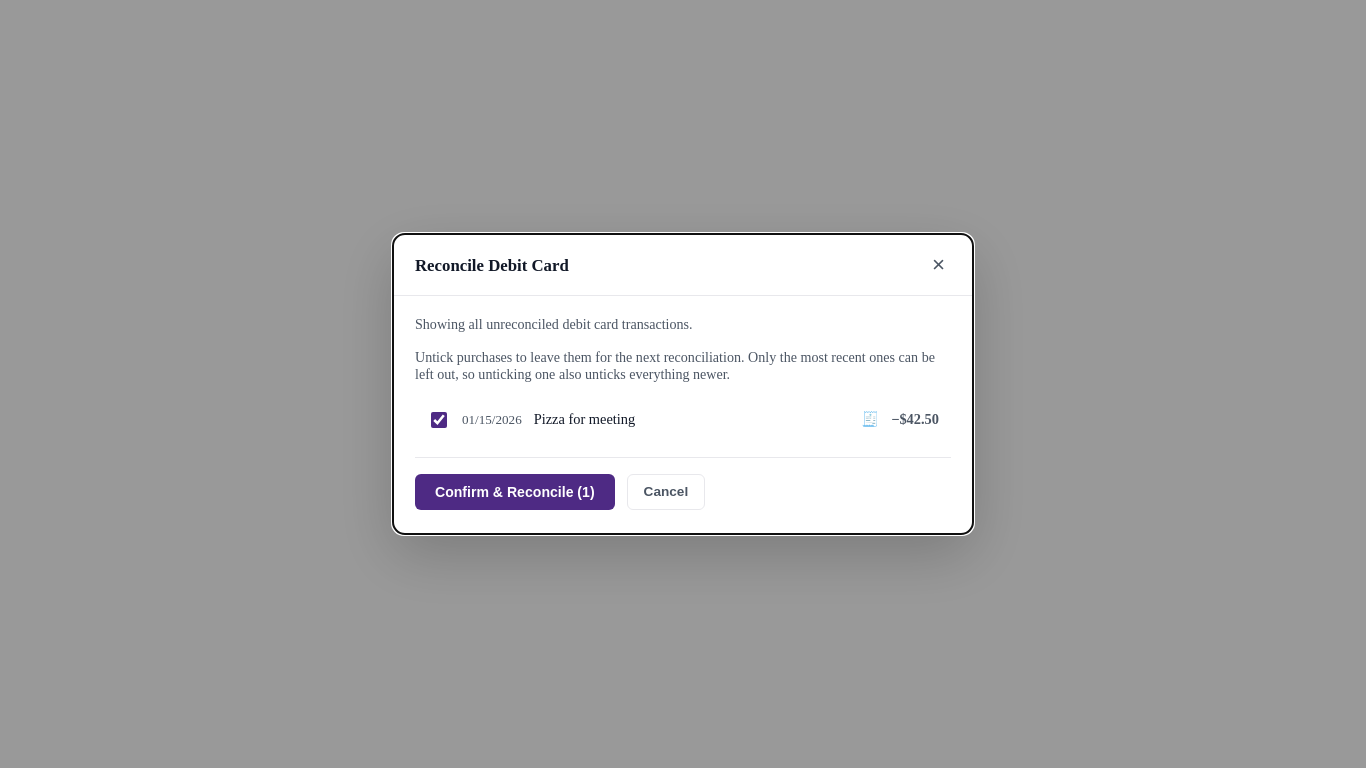
Test: ReconciliationModal › a successful ZIP download clears a previous download error
The width and height of the screenshot is (1366, 768).
Click the button "Confirm & Reconcile (1)": [515, 492] box 415,474 -> 615,510
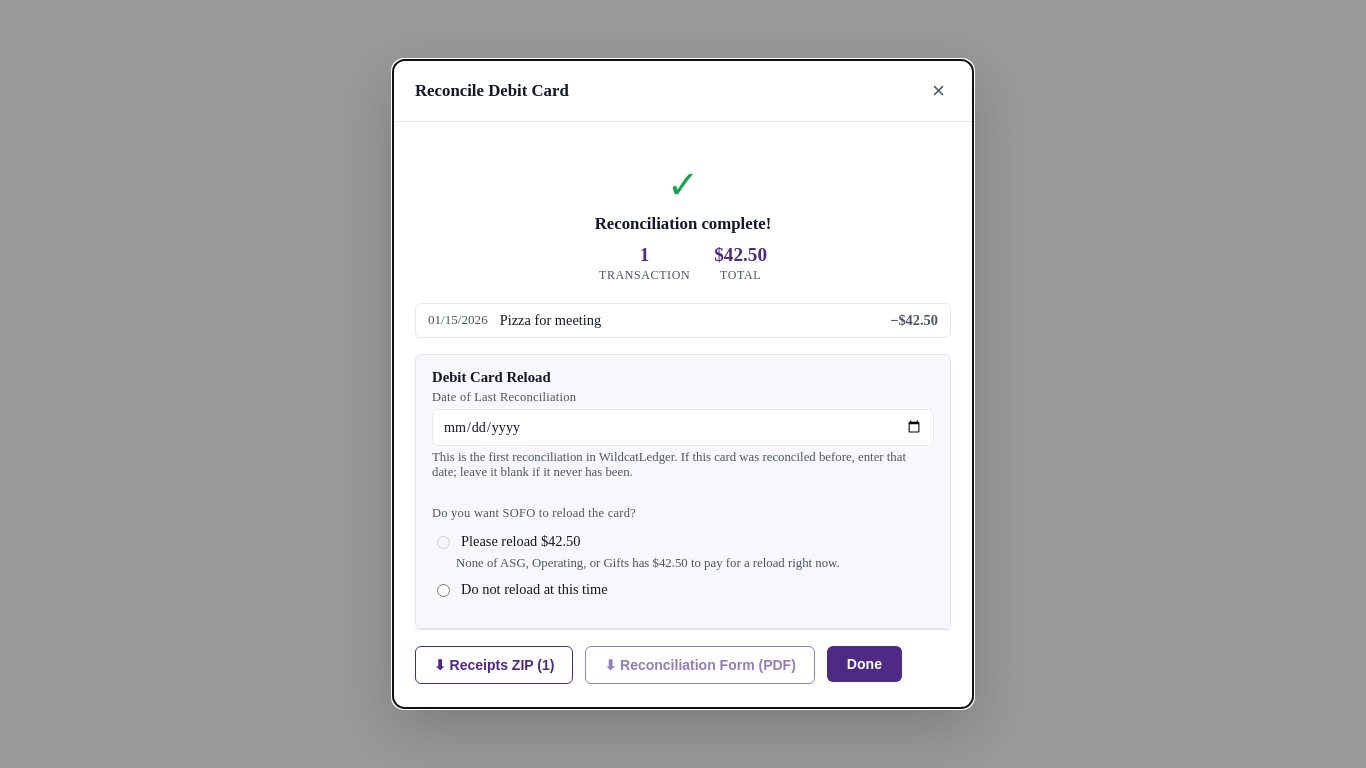
Click the button "⬇ Receipts ZIP (1)": [494, 665] box 415,646 -> 573,684
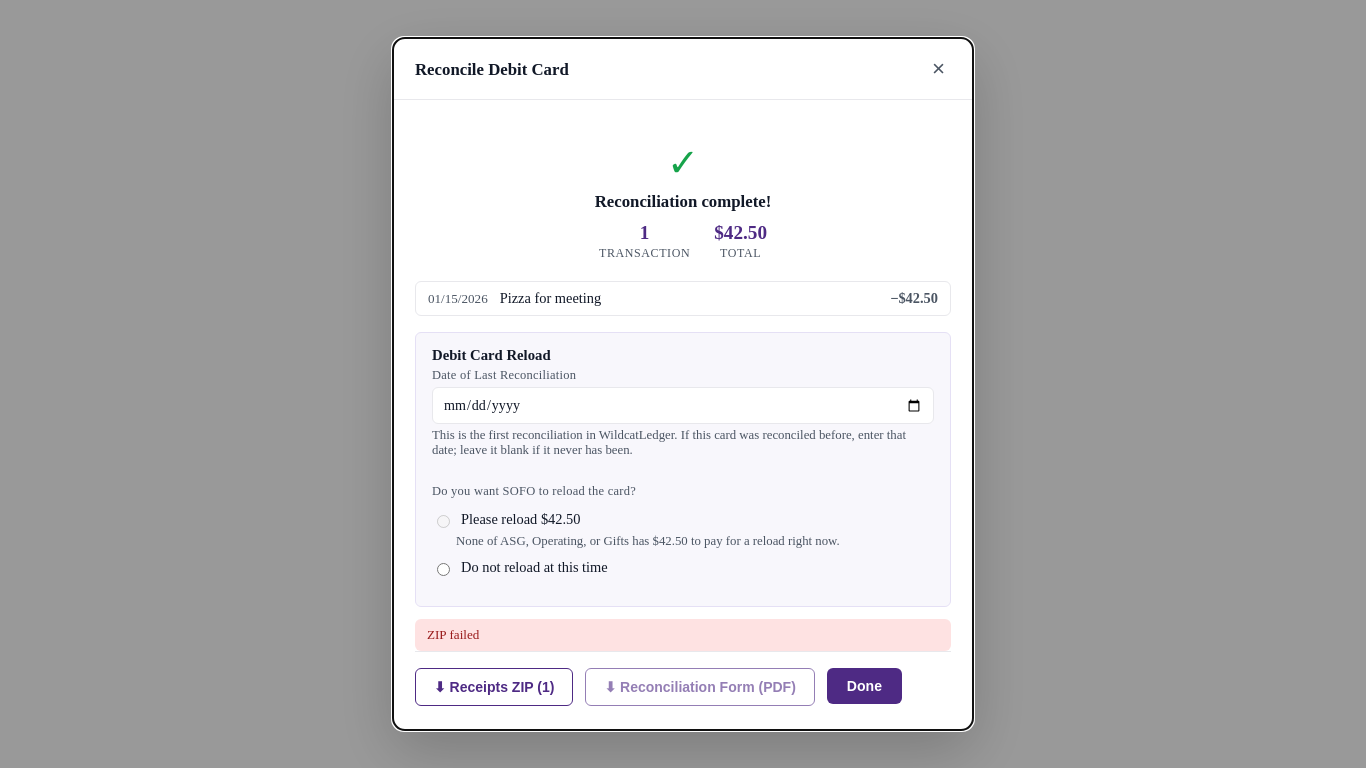
Now the text "ZIP failed" is shown, box 415,619 -> 951,651
Click the button "⬇ Receipts ZIP (1)": [494, 687] box 415,668 -> 573,706
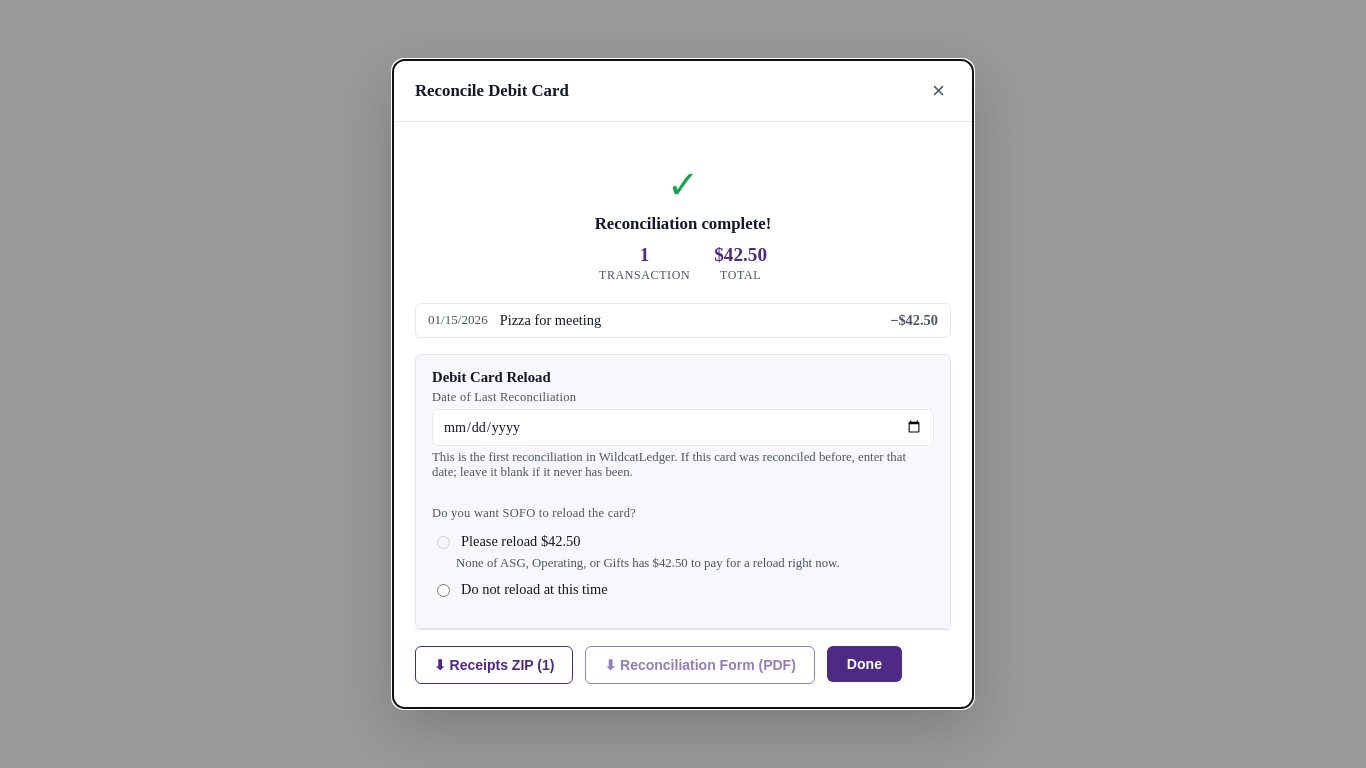
Now the text "ZIP failed" is gone
